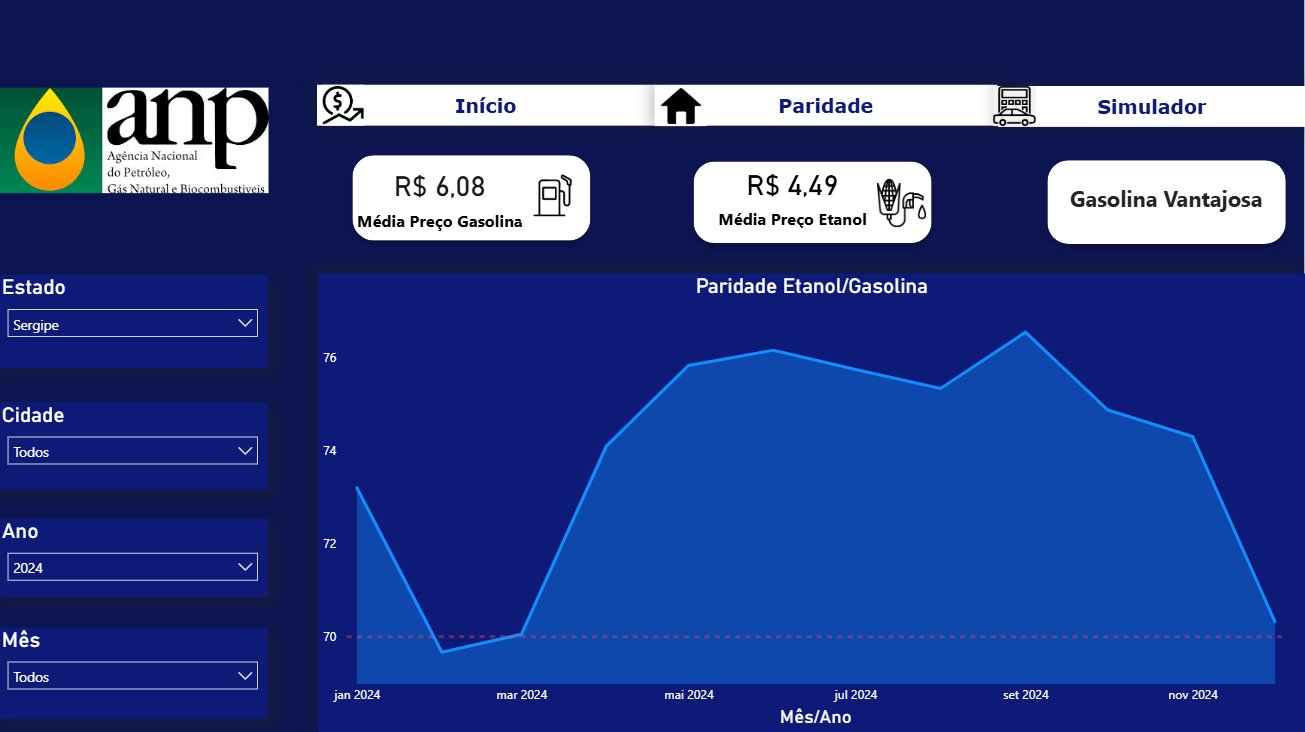

The page's visual inventory and layout, read from the dashboard file:
{"tool":"powerbi","page":{"name":"Paridade ","canvas":[1280,720],"ordinal":1},"visuals":[{"type":"shape","box":[0,0,1278.9,720.4],"z":0},{"type":"stackedAreaChart","title":"Paridade Etanol/Gasolina","fields":{"Category":["Gasolina/Etanol.ano_mes"],"Y":["Avg(Gasolina/Etanol.razao_paridade_pct)"]},"box":[314.2,271.7,966,448.7],"z":1000},{"type":"slicer","title":"Estado","fields":{"Values":["Gasolina/Etanol.sigla_uf_nome"]},"box":[0,272.2,265.1,91.2],"z":2000},{"type":"slicer","title":"Cidade","fields":{"Values":["Gasolina/Etanol.id_municipio_nome"]},"box":[0,397.7,265.1,85.5],"z":3000},{"type":"slicer","title":"Ano","fields":{"Values":["Gasolina/Etanol.Ano"]},"box":[0,511.7,265.1,77],"z":4000},{"type":"slicer","title":"Mês","fields":{"Values":["Gasolina/Etanol.Mes Nome"]},"box":[0,617.2,265.1,89.8],"z":5000},{"type":"shape","box":[338.7,146.7,250.7,101.5],"z":7000},{"type":"card","fields":{"Values":["Avg(Gasolina/Etanol.preco_gasolina)"]},"box":[338.7,156.5,189.5,78.3],"z":8000},{"type":"shape","box":[1018.9,151.3,251.1,99.9],"z":9000},{"type":"image","box":[512.4,162.6,62.4,64.8],"z":10000},{"type":"shape","box":[672.6,152.9,250.7,97.8],"z":11000},{"type":"card","fields":{"Values":["Avg(Gasolina/Etanol.preco_etanol)"]},"box":[687.4,156.9,182.5,75.5],"z":12000},{"type":"image","box":[860.9,174.9,47.7,55],"z":13000},{"type":"card","fields":{"Values":["Gasolina/Etanol.Status Atual"]},"box":[1037.4,161.2,214,77.1],"z":14000},{"type":"image","box":[0,88,265.4,106.4],"z":17000},{"type":"actionButton","box":[313,86.8,330.2,40.4],"z":18000},{"type":"actionButton","box":[643.2,86.8,335.1,40.4],"z":19000},{"type":"actionButton","box":[979.5,88,300.8,40.4],"z":20000},{"type":"image","box":[643.2,88,51.4,39.1],"z":21000},{"type":"image","box":[313,86.8,51.4,40.4],"z":21500},{"type":"image","box":[972.2,88,46.5,39.1],"z":22000}]}

Visuals, with their boxes in screenshot pixels (x1, y1, x2, y2), scaled from the page's 1280x720 canvas onto the 1305x732 screenshot:
shape: x1=0 y1=0 x2=1304 y2=731
"Paridade Etanol/Gasolina" stackedAreaChart: x1=320 y1=276 x2=1304 y2=731
"Estado" slicer: x1=0 y1=277 x2=270 y2=369
"Cidade" slicer: x1=0 y1=404 x2=270 y2=491
"Ano" slicer: x1=0 y1=520 x2=270 y2=599
"Mês" slicer: x1=0 y1=627 x2=270 y2=719
shape: x1=345 y1=149 x2=601 y2=252
card - Avg(Gasolina/Etanol.preco_gasolina): x1=345 y1=159 x2=539 y2=239
shape: x1=1039 y1=154 x2=1295 y2=255
image: x1=522 y1=165 x2=586 y2=231
shape: x1=686 y1=155 x2=941 y2=255
card - Avg(Gasolina/Etanol.preco_etanol): x1=701 y1=160 x2=887 y2=236
image: x1=878 y1=178 x2=926 y2=234
card - Gasolina/Etanol.Status Atual: x1=1058 y1=164 x2=1276 y2=242
image: x1=0 y1=89 x2=271 y2=198
actionButton: x1=319 y1=88 x2=656 y2=129
actionButton: x1=656 y1=88 x2=997 y2=129
actionButton: x1=999 y1=89 x2=1304 y2=131
image: x1=656 y1=89 x2=708 y2=129
image: x1=319 y1=88 x2=372 y2=129
image: x1=991 y1=89 x2=1039 y2=129
